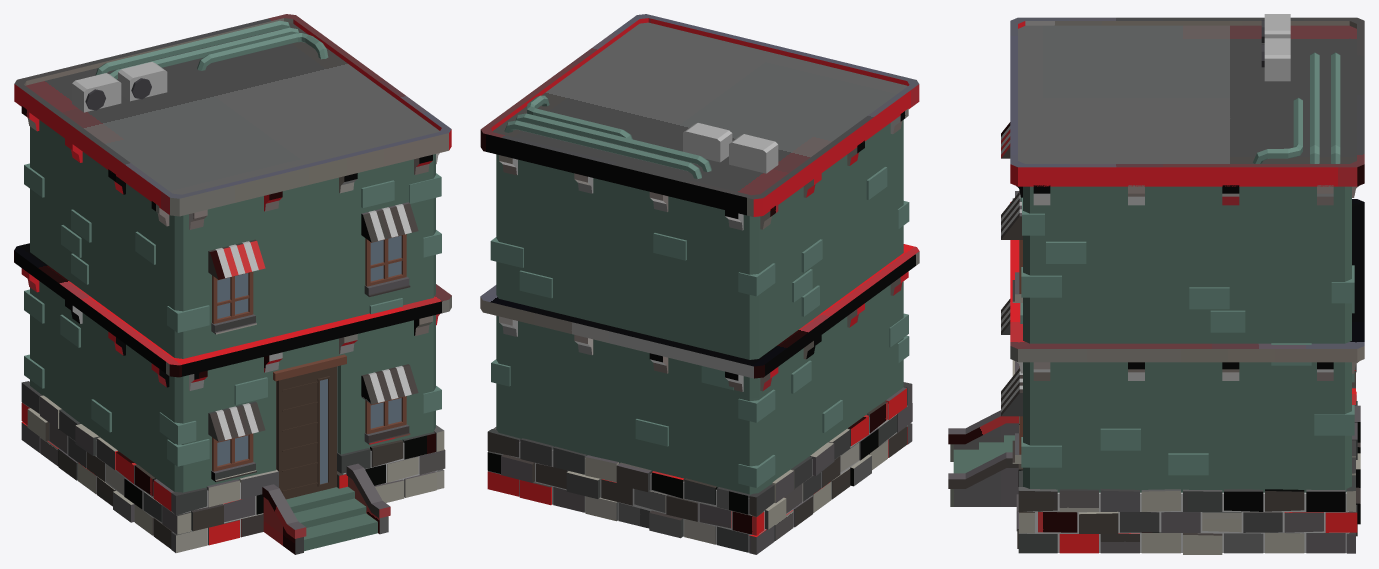
The model's file is quaternius-ultimate-textured-building-2-story-mat.glb.
The picture shows the model from 3 angles, left to right: view 1: azimuth 30°, elevation 25°; view 2: azimuth 150°, elevation 25°; view 3: azimuth 270°, elevation 25°; orthographic projection. The views are drawn at different scales.
Parts seen in each view (by area): view 1: 2Story_Mat; view 2: 2Story_Mat; view 3: 2Story_Mat.
Part boxes in pixels (x1=…): 2Story_Mat: x1=14, y1=14, x2=451, y2=554; 2Story_Mat: x1=480, y1=14, x2=919, y2=554; 2Story_Mat: x1=948, y1=14, x2=1364, y2=554.
Bounding box in the file's own units: 2.16 × 2.75 × 2.53.
Materials: 3 (3 with a texture image).
